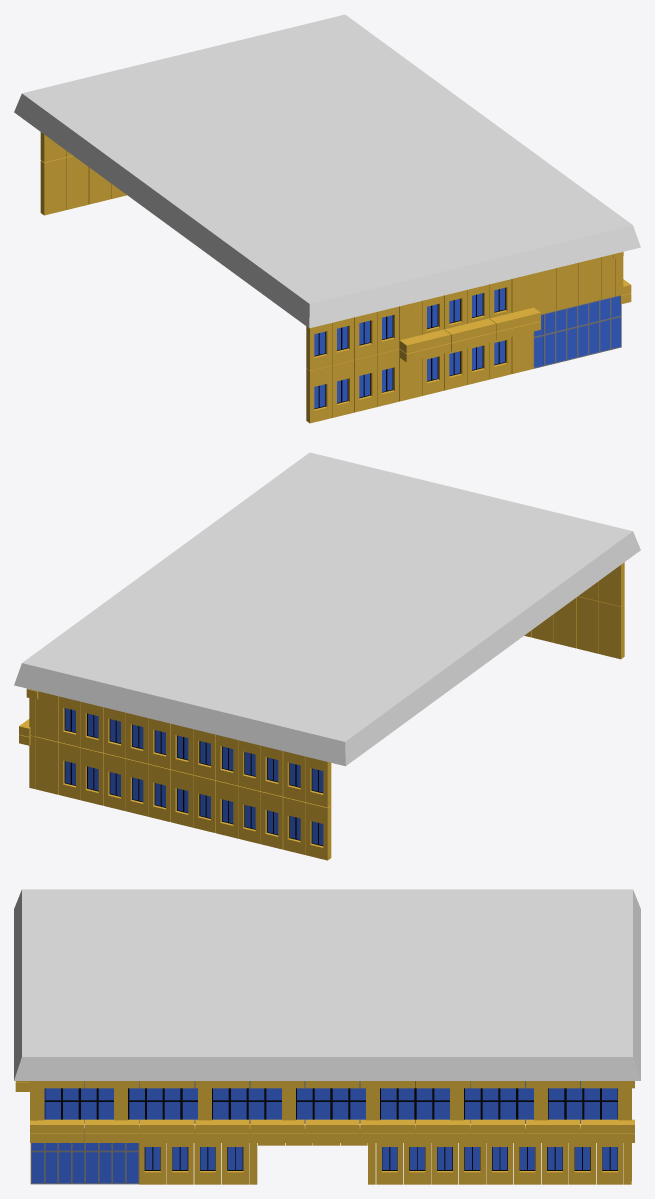
File: sunichi2.fbx
3 renders of one model, top to bottom at view 1: azimuth 30°, elevation 25°; view 2: azimuth 150°, elevation 25°; view 3: azimuth 270°, elevation 25°, orthographic. The views are drawn at different scales.
Visible parts, largest first — view 1: 立方体.024, 立方体.022, 立方体.008, 立方体.018, 立方体.021, 立方体.002, 立方体.023, 立方体.009, 立方体.016, 立方体.019, 立方体.017, 立方体.020; view 2: 立方体.024, 立方体.002, 立方体.022, 立方体.003, 立方体.021; view 3: 立方体.024, 立方体.013, 立方体.011, 立方体.001, 立方体.015, 立方体.006, 立方体.007, 立方体.014.
Part boxes in pixels (left/top/right/bottom): 立方体.024: left=14, top=14, right=640, bottom=328; 立方体.022: left=306, top=349, right=399, bottom=423; 立方体.008: left=533, top=295, right=621, bottom=368; 立方体.018: left=511, top=254, right=623, bottom=314; 立方体.021: left=306, top=306, right=399, bottom=370; 立方体.002: left=40, top=132, right=126, bottom=215; 立方体.023: left=399, top=307, right=540, bottom=362; 立方体.009: left=422, top=337, right=511, bottom=395; 立方体.016: left=422, top=279, right=511, bottom=334; 立方体.019: left=399, top=357, right=421, bottom=401; 立方体.017: left=511, top=331, right=533, bottom=373; 立方体.020: left=399, top=301, right=421, bottom=339; 立方体.024: left=14, top=452, right=640, bottom=766; 立方体.002: left=58, top=696, right=331, bottom=860; 立方体.022: left=531, top=596, right=624, bottom=659; 立方体.003: left=36, top=691, right=58, bottom=794; 立方体.021: left=578, top=562, right=624, bottom=606; 立方体.024: left=14, top=889, right=640, bottom=1080; 立方体.013: left=44, top=1081, right=617, bottom=1123; 立方体.011: left=30, top=1119, right=634, bottom=1142; 立方体.001: left=376, top=1125, right=623, bottom=1184; 立方体.015: left=30, top=1081, right=634, bottom=1088; 立方体.006: left=139, top=1126, right=248, bottom=1184; 立方体.007: left=31, top=1128, right=139, bottom=1184; 立方体.014: left=30, top=1088, right=631, bottom=1120.
Bounding box in the file's own units: 3200 × 1138 × 4934.
